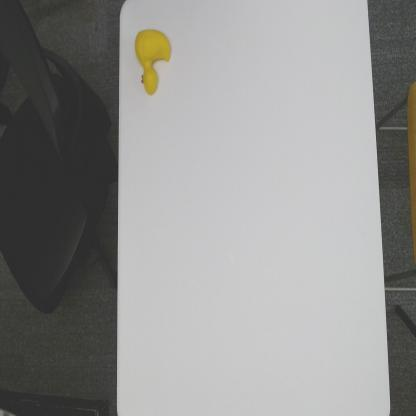Duck: (134, 26, 172, 98)
